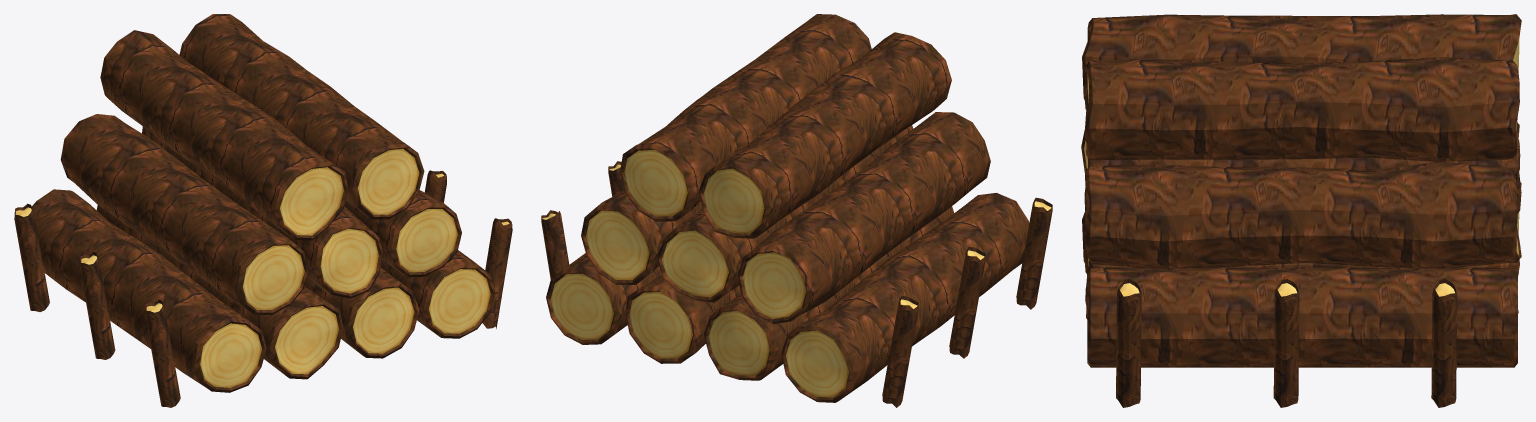
The model's file is decoration_wood.FBX.
3 renders of one model, left to right at view 1: azimuth 30°, elevation 25°; view 2: azimuth 150°, elevation 25°; view 3: azimuth 270°, elevation 25°, orthographic. The views are drawn at different scales.
Parts seen in each view (by area): view 1: Cylinder007; view 2: Cylinder007; view 3: Cylinder007.
Boxes of the visible parts, x1,y1,x2,y2 form: Cylinder007: [14, 14, 512, 407]; Cylinder007: [541, 14, 1052, 407]; Cylinder007: [1081, 14, 1521, 407].
Bounding box in the file's own units: 105 × 62.51 × 90.78.
